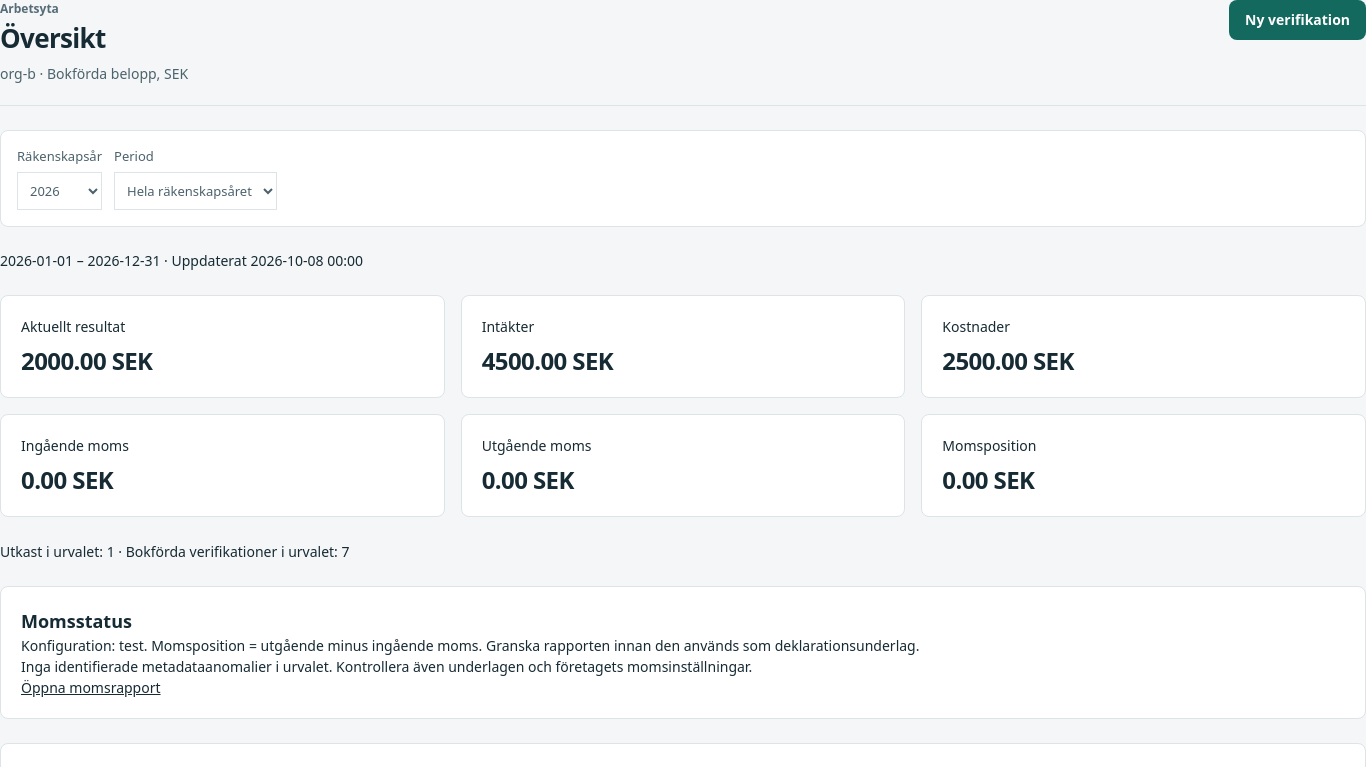
Scenario: organization and period changes discard late data and old KPIs
Expected: the text "4500.00 SEK" is shown, [482,344,613,377]
Select "Eget intervall" in the dropdown named "Dashboardperiod" at (196,191), box [114,172,277,210]
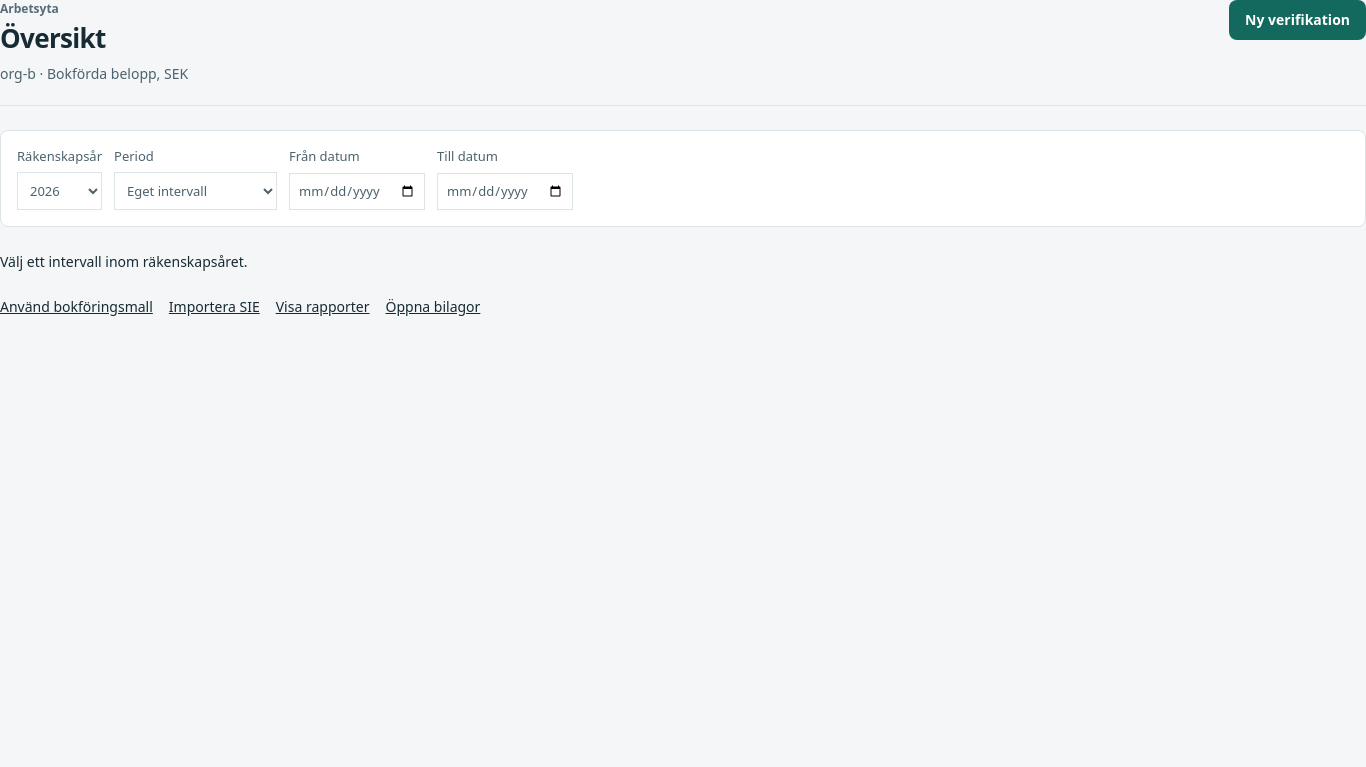
Now the text "4500.00 SEK" is gone
